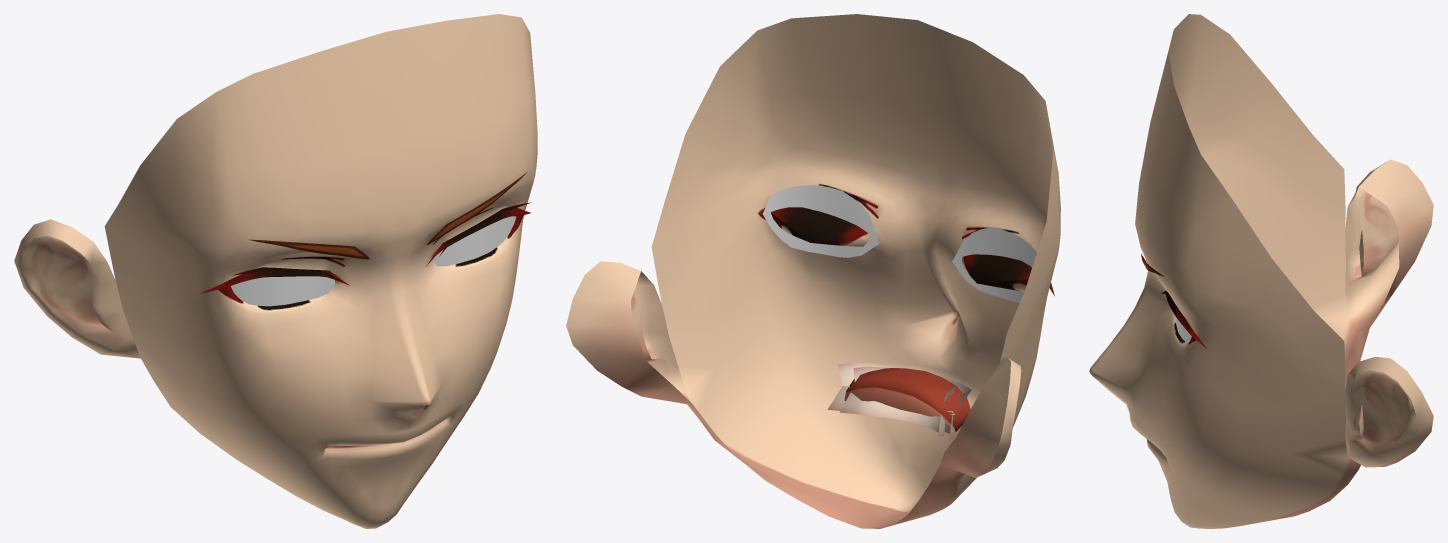
Rendered from Madara.fbx.
3 views of the same model, side by side, from view 1: azimuth 30°, elevation 25°; view 2: azimuth 150°, elevation 25°; view 3: azimuth 270°, elevation 25° (orthographic). The views are drawn at different scales.
Parts seen in each view (by area): view 1: M_Head, M_Eye_B_Def, M_Mth_B_Def, M_PupALL_R_A_Def, M_PupALL_L_A_Def, M_Brw_B_Def; view 2: M_Head, M_Eye_B_Def, M_Mth_B_Def, M_PupALL_L_A_Def, M_PupALL_R_A_Def; view 3: M_Head, M_Eye_B_Def, M_Mth_B_Def.
Part boxes in pixels (bbox=[...]): M_Head: bbox=[14, 14, 537, 376]; M_Eye_B_Def: bbox=[137, 136, 537, 408]; M_Mth_B_Def: bbox=[141, 352, 496, 528]; M_PupALL_R_A_Def: bbox=[230, 276, 334, 306]; M_PupALL_L_A_Def: bbox=[432, 216, 516, 266]; M_Brw_B_Def: bbox=[248, 172, 527, 259]; M_Head: bbox=[566, 14, 1060, 477]; M_Eye_B_Def: bbox=[682, 130, 1060, 415]; M_Mth_B_Def: bbox=[686, 314, 1024, 528]; M_PupALL_L_A_Def: bbox=[762, 185, 878, 257]; M_PupALL_R_A_Def: bbox=[952, 227, 1036, 303]; M_Head: bbox=[1137, 14, 1433, 467]; M_Eye_B_Def: bbox=[1089, 116, 1292, 453]; M_Mth_B_Def: bbox=[1090, 319, 1369, 528].
Bounding box in the file's own units: 0.1645 × 0.1703 × 0.1119.
5 materials, 3 textured.
